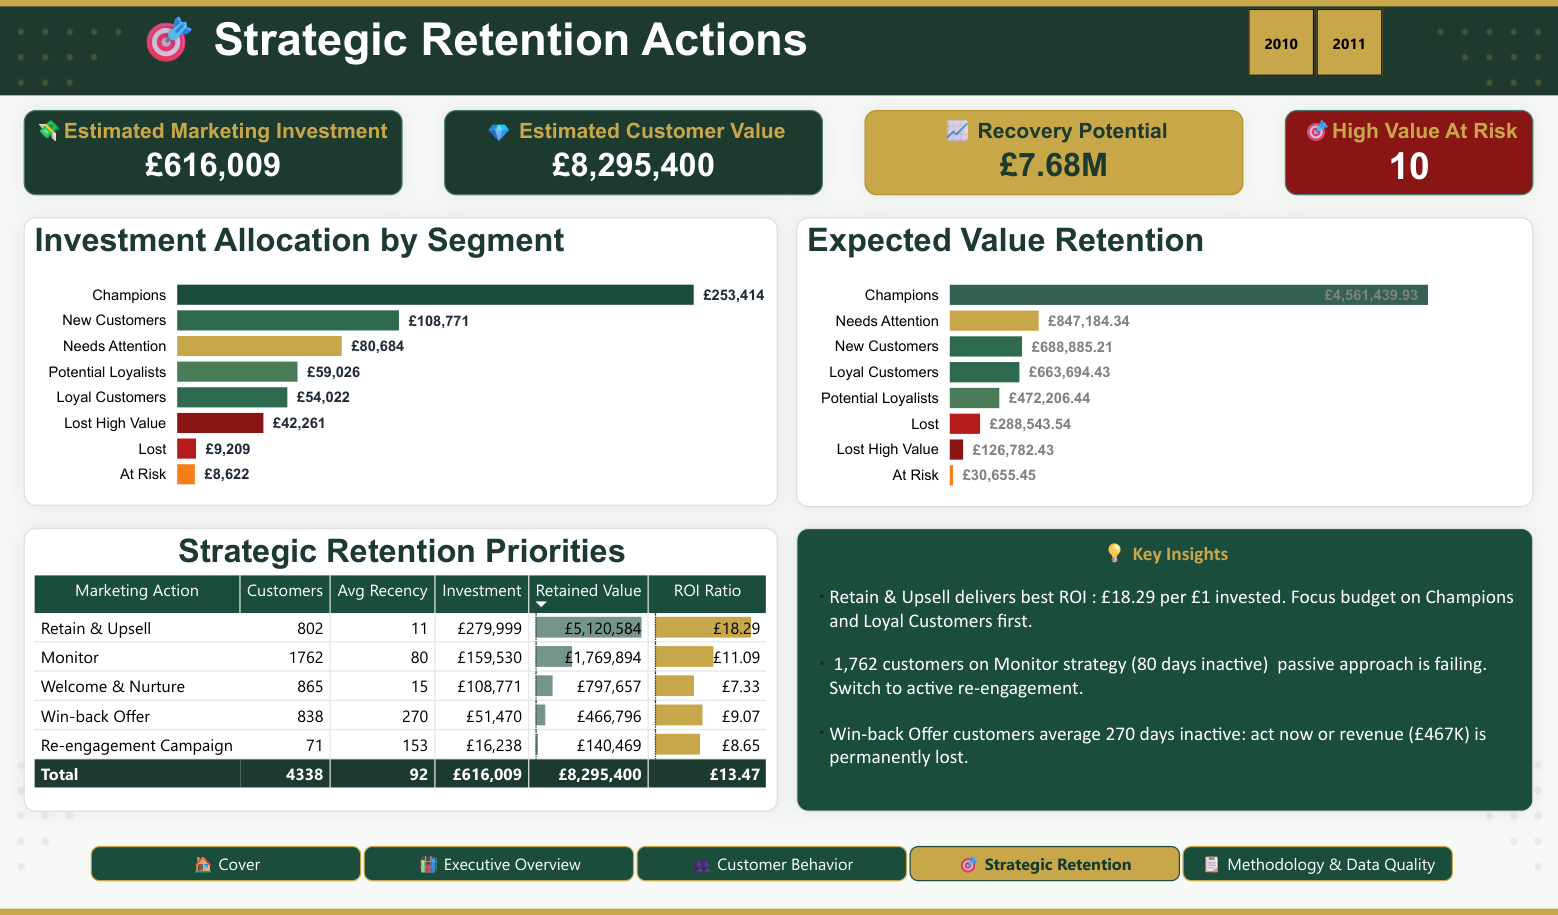

Layout of this report page (visuals, bound fields, positions):
{"tool":"powerbi","page":{"name":"🎯 Strategic Retention ","canvas":[1280,750],"ordinal":3},"visuals":[{"type":"textbox","box":[109.3,0,569.1,80.4],"z":0},{"type":"slicer","title":"Year","fields":{"Values":["Calendar.Year"]},"box":[998.9,0,159.6,69.1],"z":1000},{"type":"card","title":"💸Estimated Marketing Investment","fields":{"Values":["Measure.Estimated Marketing Investment"]},"box":[20.2,89.9,311,70],"z":2000},{"type":"card","title":"📈 Recovery Potential","fields":{"Values":["Measure.Revenue Recovery Potential"]},"box":[709.8,89.9,311,70],"z":3000},{"type":"card","title":"🎯High Value At Risk","fields":{"Values":["Measure.High Value At Risk"]},"box":[1054.9,89.9,204,70],"z":4000},{"type":"card","title":"💎 Estimated Customer Value","fields":{"Values":["Measure.Estimated Customer Value"]},"box":[365,89.6,311,70],"z":5000},{"type":"barChart","title":"Investment Allocation by Segment","fields":{"Category":["rfm_analysis gold_customer_insights.segment"],"Y":["Measure.Estimated Marketing Investment"]},"box":[20.2,177.9,618.8,237.4],"z":6000},{"type":"barChart","title":"Expected Value Retention","fields":{"Category":["rfm_analysis gold_customer_insights.segment"],"Y":["Measure.Revenue Recovery Potential"]},"box":[653.9,178.3,605,237.4],"z":7000},{"type":"pivotTable","title":"Strategic Retention Priorities","fields":{"Rows":["rfm_analysis gold_customer_insights.marketing_action"],"Values":["Measure.Customers Count","Measure.Avg Recency","Measure.Estimated Marketing Investment","Measure.Estimated Customer Value","Measure.ROI Ratio"]},"box":[20.2,433.2,618.8,232.8],"z":8000},{"type":"textbox","box":[653.9,433.2,605,232.8],"z":9000},{"type":"pageNavigator","box":[75,693.8,1119.8,29.2],"z":10000}]}

Visuals, with their boxes in screenshot pixels (x1, y1, x2, y2), scaled from the page's 1280x750 canvas onto the 1558x915 screenshot:
textbox: <region>133, 0, 826, 98</region>
"Year" slicer: <region>1216, 0, 1410, 84</region>
"💸Estimated Marketing Investment" card: <region>25, 110, 403, 195</region>
"📈 Recovery Potential" card: <region>864, 110, 1243, 195</region>
"🎯High Value At Risk" card: <region>1284, 110, 1532, 195</region>
"💎 Estimated Customer Value" card: <region>444, 109, 823, 195</region>
"Investment Allocation by Segment" barChart: <region>25, 217, 778, 507</region>
"Expected Value Retention" barChart: <region>796, 218, 1532, 507</region>
"Strategic Retention Priorities" pivotTable: <region>25, 529, 778, 813</region>
textbox: <region>796, 529, 1532, 813</region>
pageNavigator: <region>91, 846, 1454, 882</region>
